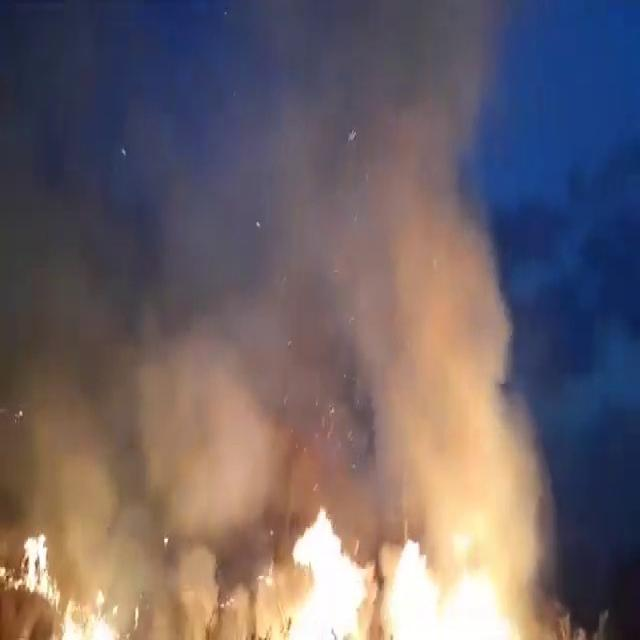Fire: (261, 528, 550, 638), (244, 510, 393, 640), (4, 532, 60, 608), (61, 586, 139, 638)
Smoke: (0, 0, 258, 638), (344, 11, 562, 521), (257, 0, 343, 502)
